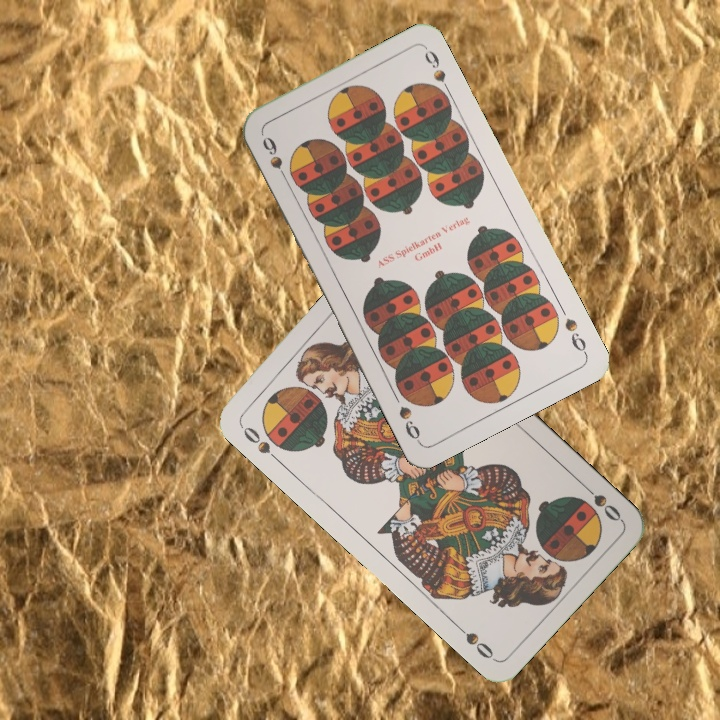S9: (258, 133, 292, 186), (560, 314, 590, 358)
SO: (236, 420, 287, 465), (577, 479, 625, 524)
